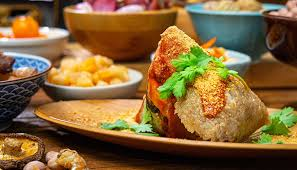zongzi: (135, 26, 268, 141)
